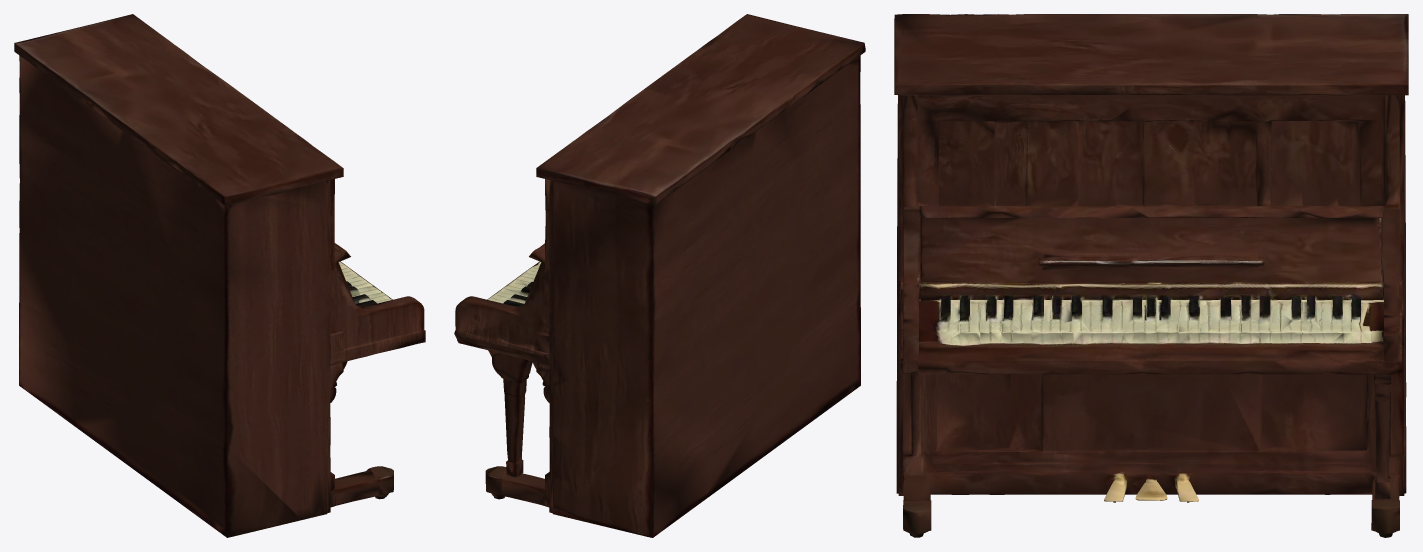
Rendered from piano.glb.
3 renders of one model, left to right at view 1: azimuth 30°, elevation 25°; view 2: azimuth 150°, elevation 25°; view 3: azimuth 270°, elevation 25°, orthographic. The views are drawn at different scales.
Visible parts, largest first — view 1: tripo_node_5a07817b-f81e-4ac3-9399-0561d3c2ed90; view 2: tripo_node_5a07817b-f81e-4ac3-9399-0561d3c2ed90; view 3: tripo_node_5a07817b-f81e-4ac3-9399-0561d3c2ed90.
Boxes of the visible parts, x1,y1,x2,y2 form: tripo_node_5a07817b-f81e-4ac3-9399-0561d3c2ed90: (14,14,425,537); tripo_node_5a07817b-f81e-4ac3-9399-0561d3c2ed90: (454,14,865,537); tripo_node_5a07817b-f81e-4ac3-9399-0561d3c2ed90: (894,14,1408,537).
Bounding box in the file's own units: 0.5425 × 0.8832 × 0.9732.
Materials: 1 (1 with a texture image).
